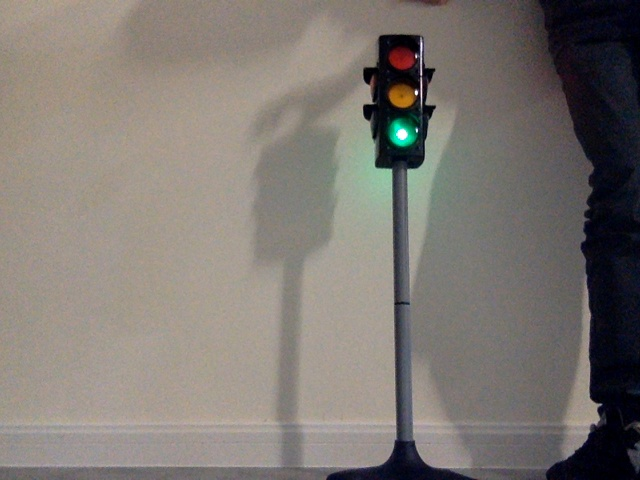green: (379, 43, 418, 151)
